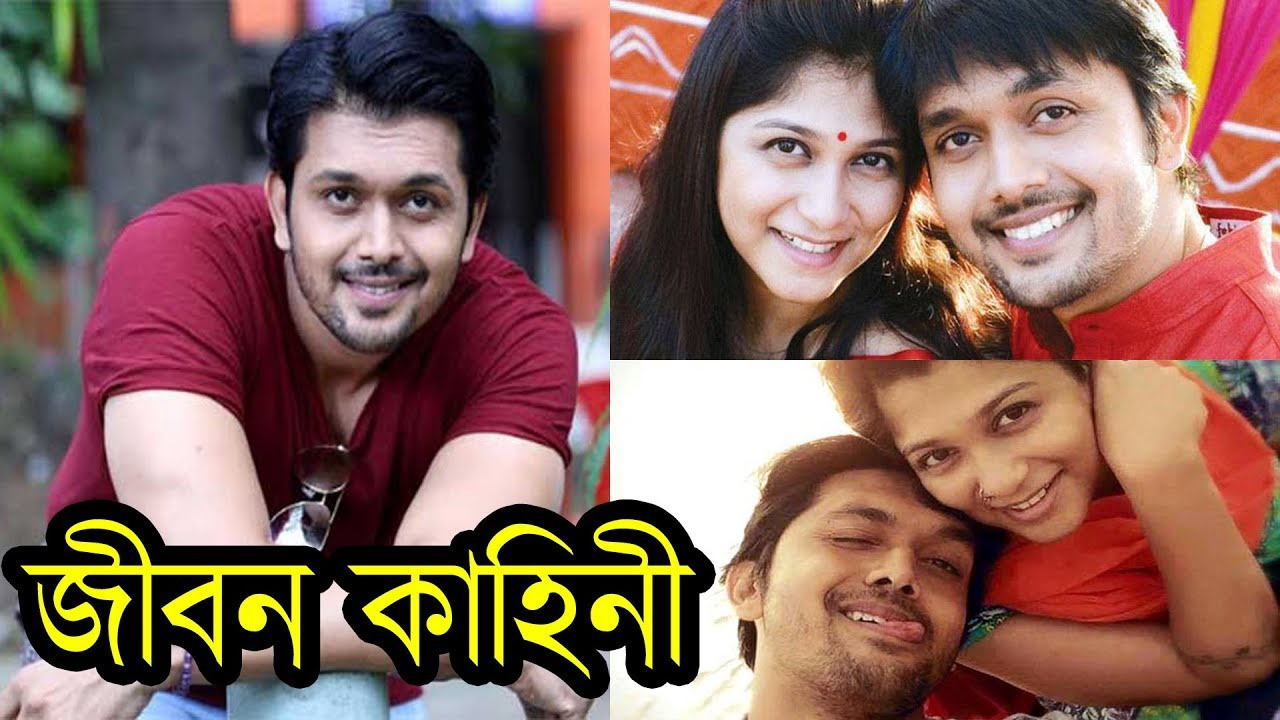bad: (712, 68, 935, 291), (910, 68, 1133, 291), (885, 365, 1108, 588), (799, 490, 985, 676), (283, 160, 469, 345)
